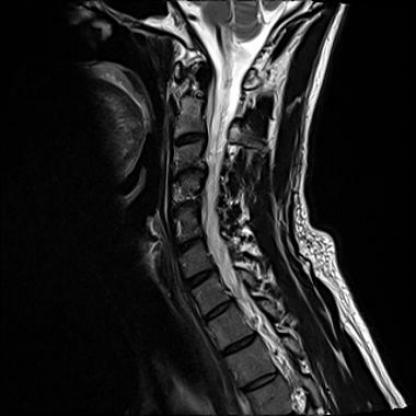Disc Protrusionrotation: (202, 300, 237, 322), (173, 164, 206, 181)
Osteophytesrotation: (173, 164, 206, 181)
